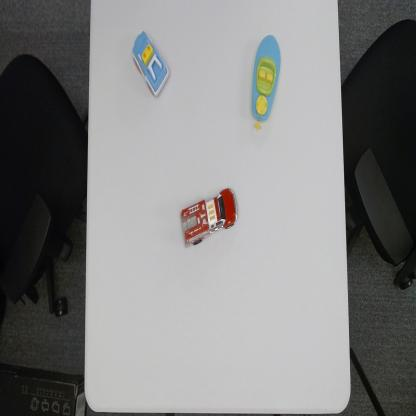Boat: (250, 33, 282, 133)
Car: (131, 28, 171, 101)
Firetruck: (179, 186, 239, 250)
